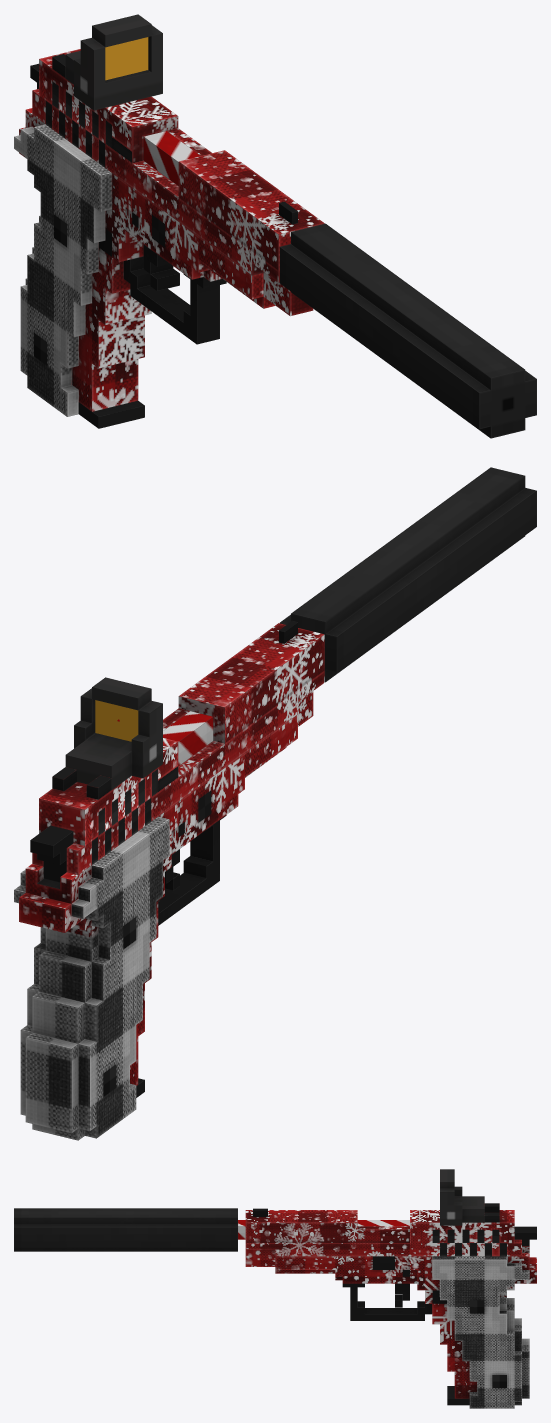
3 renders of one model, top to bottom at view 1: azimuth 30°, elevation 25°; view 2: azimuth 150°, elevation 25°; view 3: azimuth 270°, elevation 25°, orthographic. The views are drawn at different scales.
Parts seen in each view (by area): view 1: SIG_SAUER_P226, SILENCER_5X5, SIG_SAUER_P226_FRAME, SCOPE_TRIJICON, SIG_SAUER_P226_CLIP; view 2: SIG_SAUER_P226, SIG_SAUER_P226_FRAME, SILENCER_5X5, SCOPE_TRIJICON, SIG_SAUER_P226_TRIGGER; view 3: SIG_SAUER_P226, SIG_SAUER_P226_FRAME, SILENCER_5X5, SCOPE_TRIJICON, SIG_SAUER_P226_TRIGGER.
Boxes of the visible parts, <box> form: SIG_SAUER_P226: <box>14,108,290,416</box>; SILENCER_5X5: <box>279,223,536,438</box>; SIG_SAUER_P226_FRAME: <box>32,49,324,316</box>; SCOPE_TRIJICON: <box>65,14,162,110</box>; SIG_SAUER_P226_CLIP: <box>78,401,144,428</box>; SIG_SAUER_P226: <box>14,711,297,1140</box>; SIG_SAUER_P226_FRAME: <box>32,621,324,874</box>; SILENCER_5X5: <box>280,467,536,682</box>; SCOPE_TRIJICON: <box>65,677,162,789</box>; SIG_SAUER_P226_TRIGGER: <box>30,825,73,882</box>; SIG_SAUER_P226: <box>238,1220,536,1408</box>; SIG_SAUER_P226_FRAME: <box>245,1203,521,1266</box>; SILENCER_5X5: <box>14,1208,237,1251</box>; SCOPE_TRIJICON: <box>440,1169,484,1225</box>; SIG_SAUER_P226_TRIGGER: <box>514,1226,536,1246</box>.
Bounding box in the file's own units: 0.0591 × 0.3248 × 0.689.
4 materials, 4 textured.
